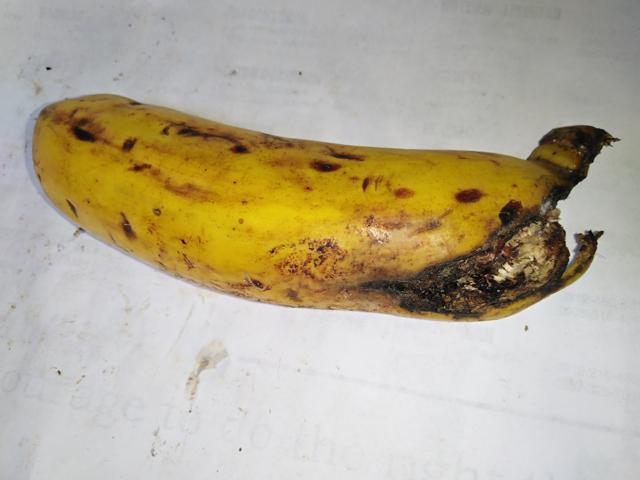ripe: (24, 63, 411, 318)
rotten: (364, 118, 602, 349)
